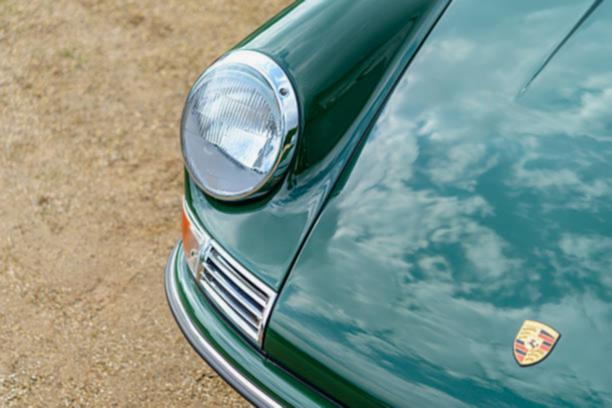porsche: (504, 304, 564, 378)
